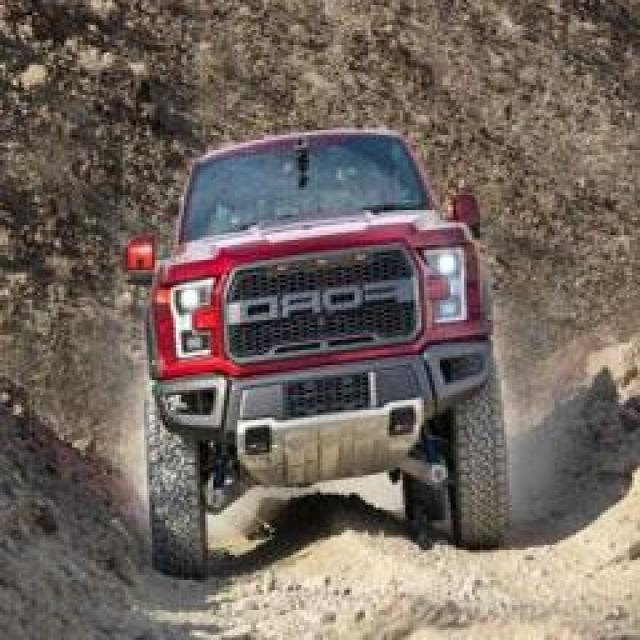car: (65, 101, 535, 581)
